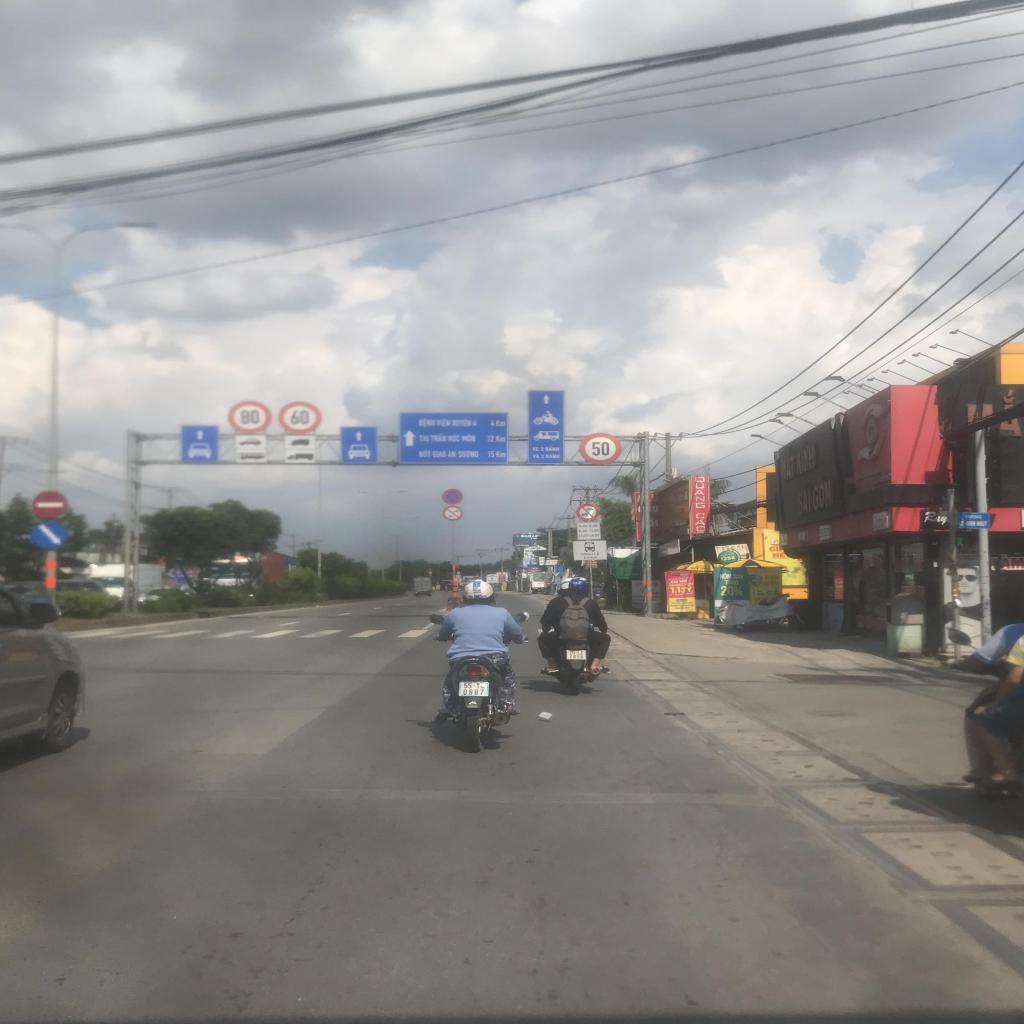cam_dung_xe_va_do_xe: (440, 488, 464, 505)
cam_o_to_tai_va_xe_khach: (575, 503, 599, 521)
cam_xe_2_banh_va_xe_3_banh_co_dong_co: (442, 505, 463, 521)
cam_xe_di_nguoc_chieu: (30, 490, 69, 517)
duong_cho_xe_o_to: (340, 426, 377, 465), (182, 425, 218, 464)
huong_phai_di_vuot_chuong_ngai_vat_phai: (30, 521, 69, 550)
khac: (398, 412, 507, 463), (527, 390, 564, 462), (572, 540, 606, 561), (284, 435, 317, 450), (285, 450, 318, 465), (235, 435, 267, 450), (235, 449, 268, 463), (577, 522, 601, 540)
toc_do_toi_da_50: (579, 432, 623, 464)
toc_do_toi_da_60: (277, 402, 323, 433)
toc_do_toi_da_80: (228, 400, 272, 435)
